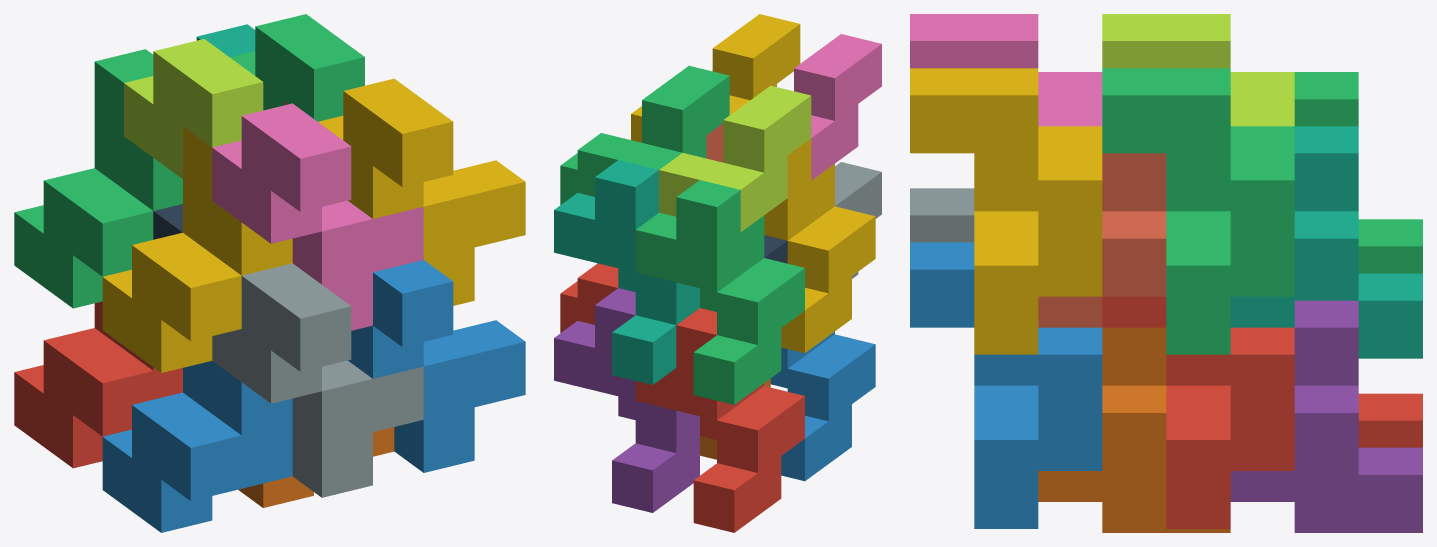
Rendered from tiling.obj.
3 views of the same model, side by side, from view 1: azimuth 30°, elevation 25°; view 2: azimuth 150°, elevation 25°; view 3: azimuth 270°, elevation 25° (orthographic). The views are drawn at different scales.
Visible parts, largest first — view 1: copy_2_domain_2, copy_2_domain_4, copy_2_domain_8, copy_1_domain_2, copy_1_domain_4, copy_1_domain_3, copy_2_domain_6, copy_1_domain_1, copy_2_domain_3, copy_2_domain_7, copy_1_domain_6, copy_1_domain_7 (+1 smaller); view 2: copy_1_domain_3, copy_1_domain_1, copy_1_domain_7, copy_1_domain_5, copy_1_domain_4, copy_2_domain_3, copy_2_domain_7, copy_1_domain_2, copy_2_domain_4, copy_2_domain_8, copy_2_domain_5, copy_2_domain_2 (+3 smaller); view 3: copy_2_domain_7, copy_2_domain_8, copy_2_domain_6, copy_2_domain_5, copy_1_domain_5, copy_1_domain_7, copy_1_domain_6, copy_1_domain_8, copy_2_domain_3, copy_2_domain_4, copy_1_domain_3, copy_1_domain_1 (+1 smaller).
Boxes of the visible parts, x1=… form: copy_2_domain_2: x1=212, y1=263, x2=423, y2=497; copy_2_domain_4: x1=212, y1=103, x2=423, y2=330; copy_2_domain_8: x1=318, y1=78, x2=525, y2=305; copy_1_domain_2: x1=102, y1=361, x2=292, y2=532; copy_1_domain_4: x1=102, y1=126, x2=292, y2=372; copy_1_domain_3: x1=14, y1=49, x2=182, y2=308; copy_2_domain_6: x1=348, y1=260, x2=525, y2=472; copy_1_domain_1: x1=14, y1=301, x2=182, y2=468; copy_2_domain_3: x1=124, y1=39, x2=263, y2=178; copy_2_domain_7: x1=230, y1=14, x2=364, y2=121; copy_1_domain_6: x1=238, y1=427, x2=394, y2=507; copy_1_domain_7: x1=196, y1=24, x2=255, y2=57; copy_1_domain_3: x1=635, y1=180, x2=804, y2=404; copy_1_domain_1: x1=635, y1=308, x2=804, y2=532; copy_1_domain_7: x1=554, y1=160, x2=699, y2=384; copy_1_domain_5: x1=554, y1=288, x2=699, y2=512; copy_1_domain_4: x1=764, y1=138, x2=875, y2=353; copy_2_domain_3: x1=659, y1=85, x2=811, y2=231; copy_2_domain_7: x1=560, y1=65, x2=729, y2=204; copy_1_domain_2: x1=770, y1=331, x2=875, y2=481; copy_2_domain_4: x1=794, y1=34, x2=881, y2=180; copy_2_domain_8: x1=631, y1=14, x2=800, y2=142; copy_2_domain_5: x1=560, y1=263, x2=618, y2=332; copy_2_domain_2: x1=835, y1=162, x2=881, y2=278; copy_2_domain_7: x1=1102, y1=68, x2=1294, y2=354; copy_2_domain_8: x1=910, y1=68, x2=1102, y2=354; copy_2_domain_6: x1=910, y1=242, x2=1102, y2=528; copy_2_domain_5: x1=1102, y1=296, x2=1294, y2=528; copy_1_domain_5: x1=1230, y1=300, x2=1422, y2=532; copy_1_domain_7: x1=1230, y1=126, x2=1422, y2=358; copy_1_domain_6: x1=1038, y1=327, x2=1230, y2=532; copy_1_domain_8: x1=1038, y1=153, x2=1166, y2=327; copy_2_domain_3: x1=1102, y1=14, x2=1294, y2=126; copy_2_domain_4: x1=910, y1=14, x2=1102, y2=126; copy_1_domain_3: x1=1294, y1=72, x2=1422, y2=273; copy_1_domain_1: x1=1358, y1=393, x2=1422, y2=447.
Bounding box in the file's own units: 6 × 8 × 8.
